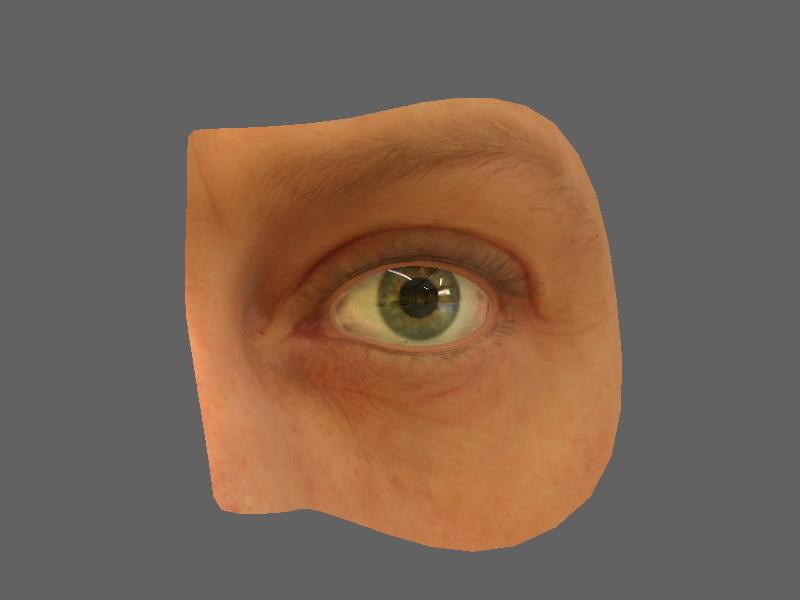iris: (371, 261, 470, 343)
